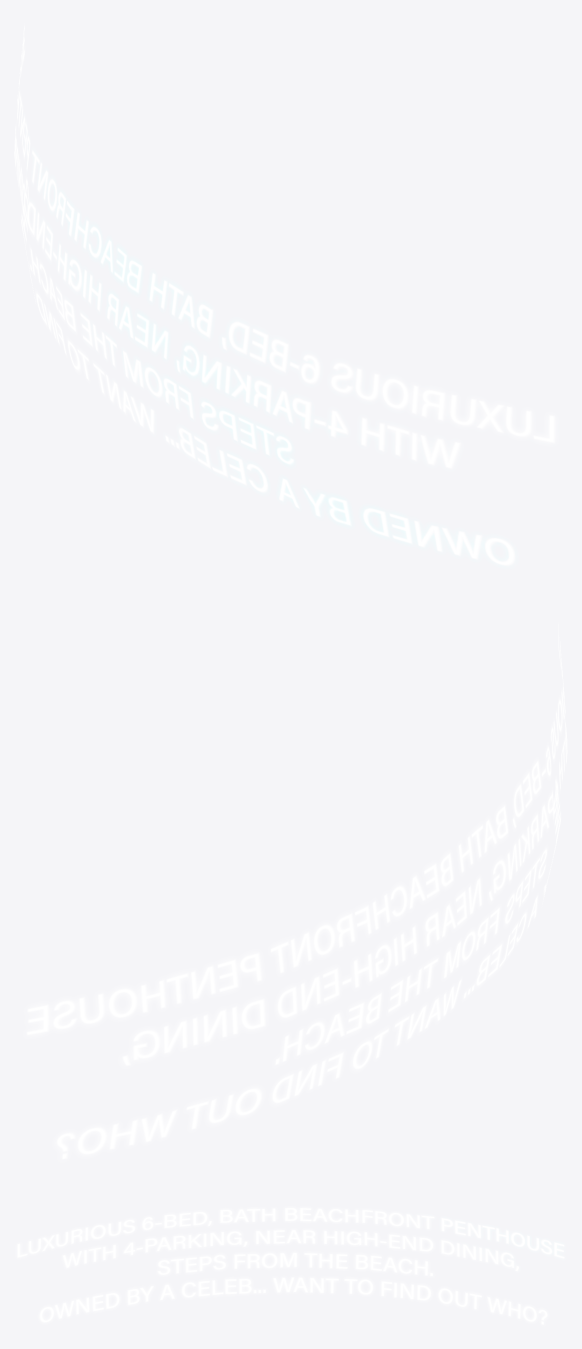
File: Description2.glb
The picture shows the model from 3 angles, top to bottom: view 1: azimuth 30°, elevation 25°; view 2: azimuth 150°, elevation 25°; view 3: azimuth 270°, elevation 25°; orthographic projection. The views are drawn at different scales.
Parts seen in each view (by area): view 1: LUXURIOUS 6-BED, BATH BEACHFRONT PENTHOUSE WITH 4-PARKING, N; view 2: LUXURIOUS 6-BED, BATH BEACHFRONT PENTHOUSE WITH 4-PARKING, N; view 3: LUXURIOUS 6-BED, BATH BEACHFRONT PENTHOUSE WITH 4-PARKING, N.
Part boxes in pixels (x1,y1,x2,y2): LUXURIOUS 6-BED, BATH BEACHFRONT PENTHOUSE WITH 4-PARKING, N: (14,25,557,567); LUXURIOUS 6-BED, BATH BEACHFRONT PENTHOUSE WITH 4-PARKING, N: (26,624,567,1159); LUXURIOUS 6-BED, BATH BEACHFRONT PENTHOUSE WITH 4-PARKING, N: (16,1206,564,1324).
Size of the model in its own units: 1.04 by 1.03 by 5.55.
1 material, 1 textured.
